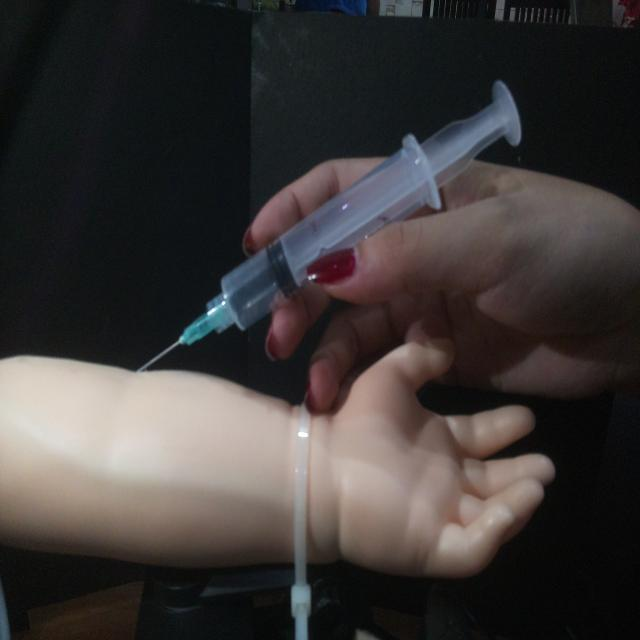28deg: (132, 75, 526, 375)
